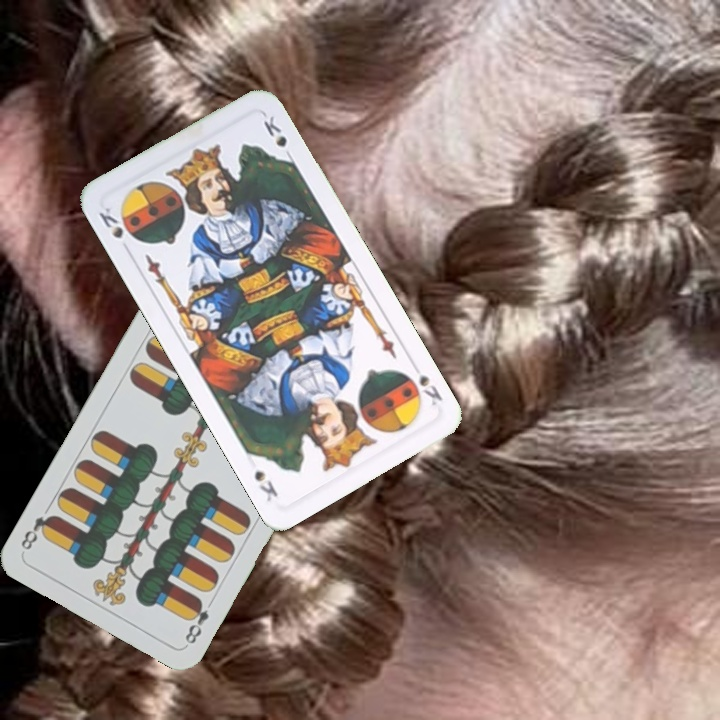E8: (181, 595, 212, 647)
SK: (407, 357, 445, 408), (94, 203, 139, 244)
